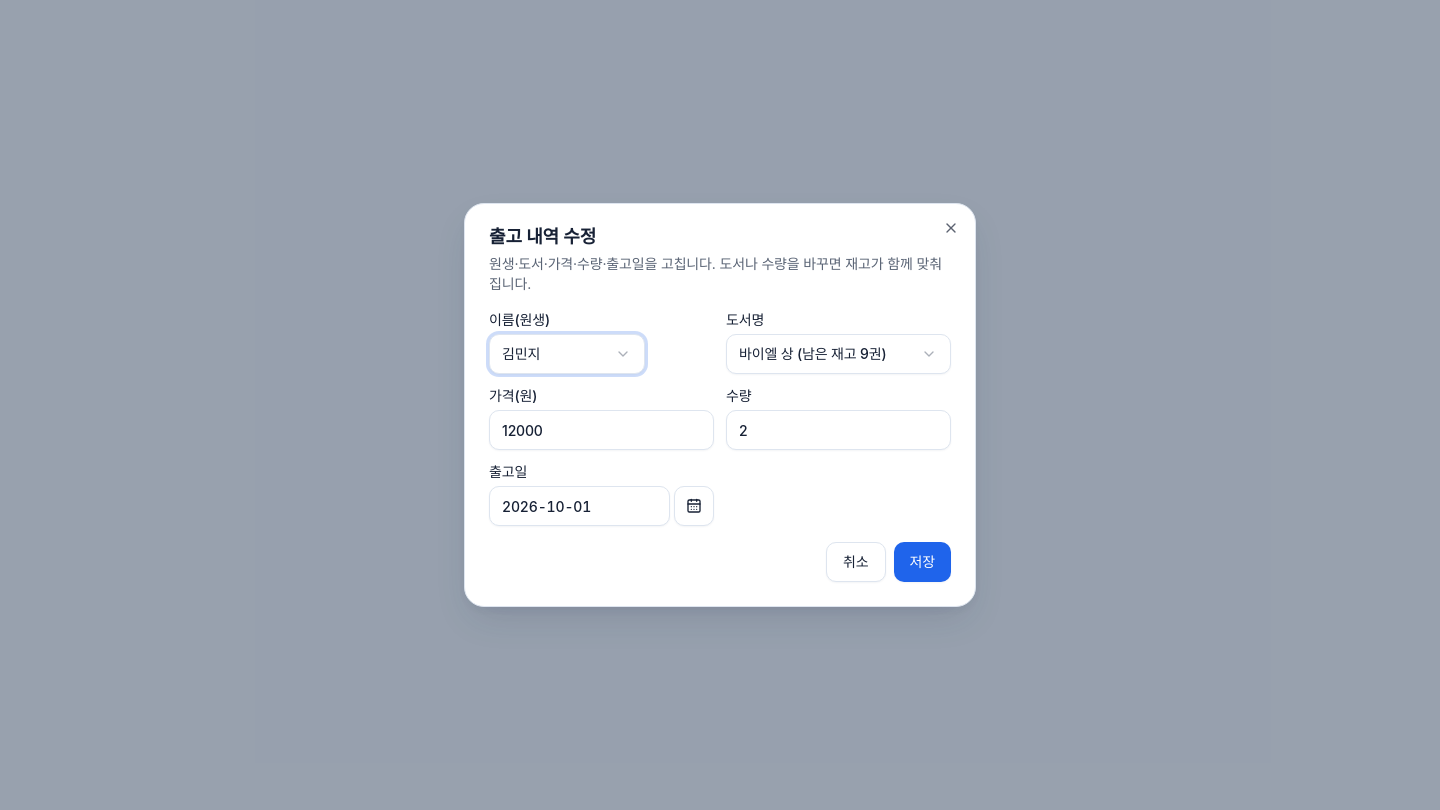
Test case: BookShipmentEditDialog › 도서를 바꾸면 가격이 다시 자동 입력되고 새 도서의 재고로 사전 검증한다
Select "스즈키 바이올린 1 (남은 재고 4권)" in the dropdown labelled "도서명" at (838, 354), box top-left (726, 334), bottom-right (951, 374)
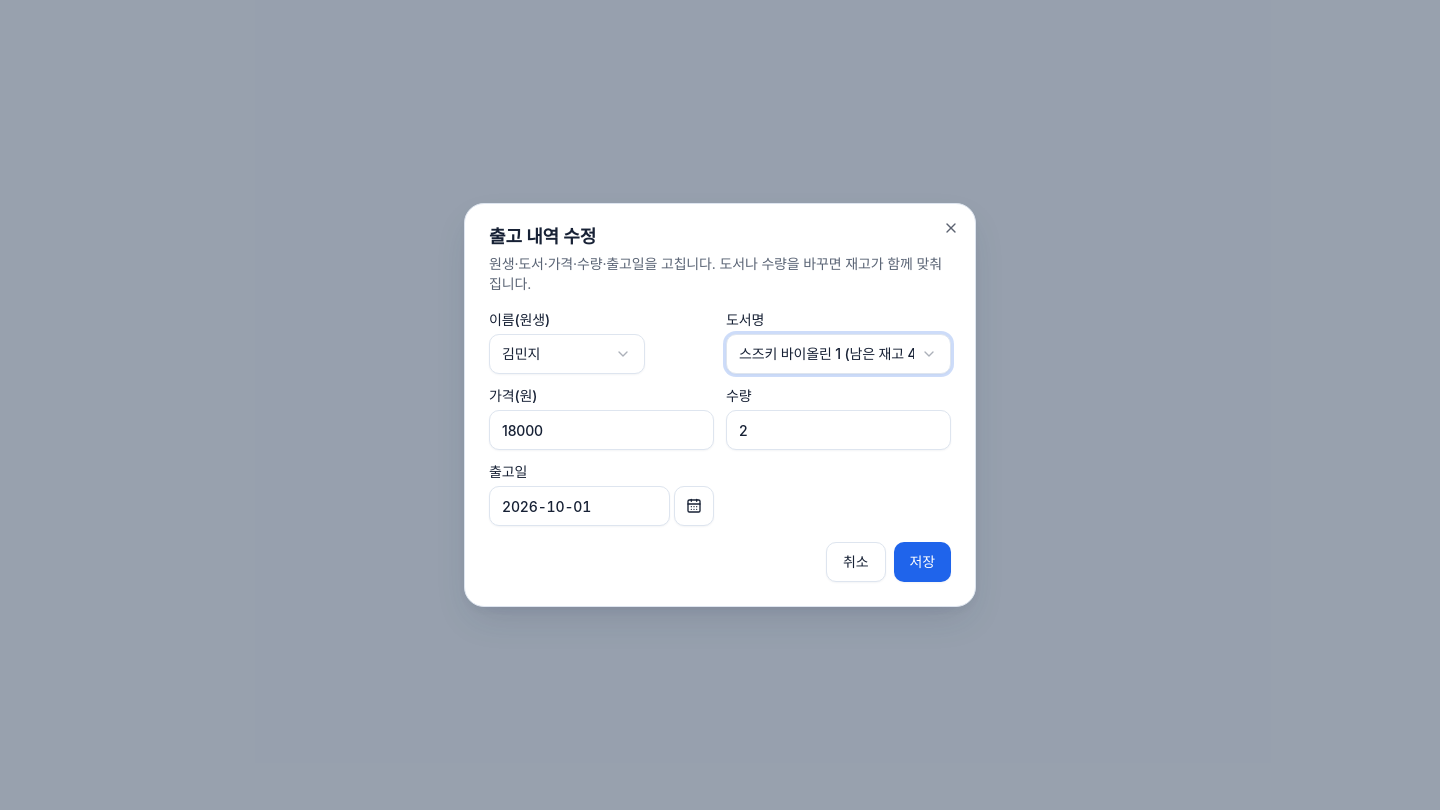
Check: the button "저장" is enabled, box top-left (894, 542), bottom-right (951, 582)
Check: the field labelled "가격(원)" holds "18000", box top-left (489, 410), bottom-right (714, 450)
Replace the text in the number field labelled "수량" with "5" at (838, 430), box top-left (726, 410), bottom-right (951, 450)
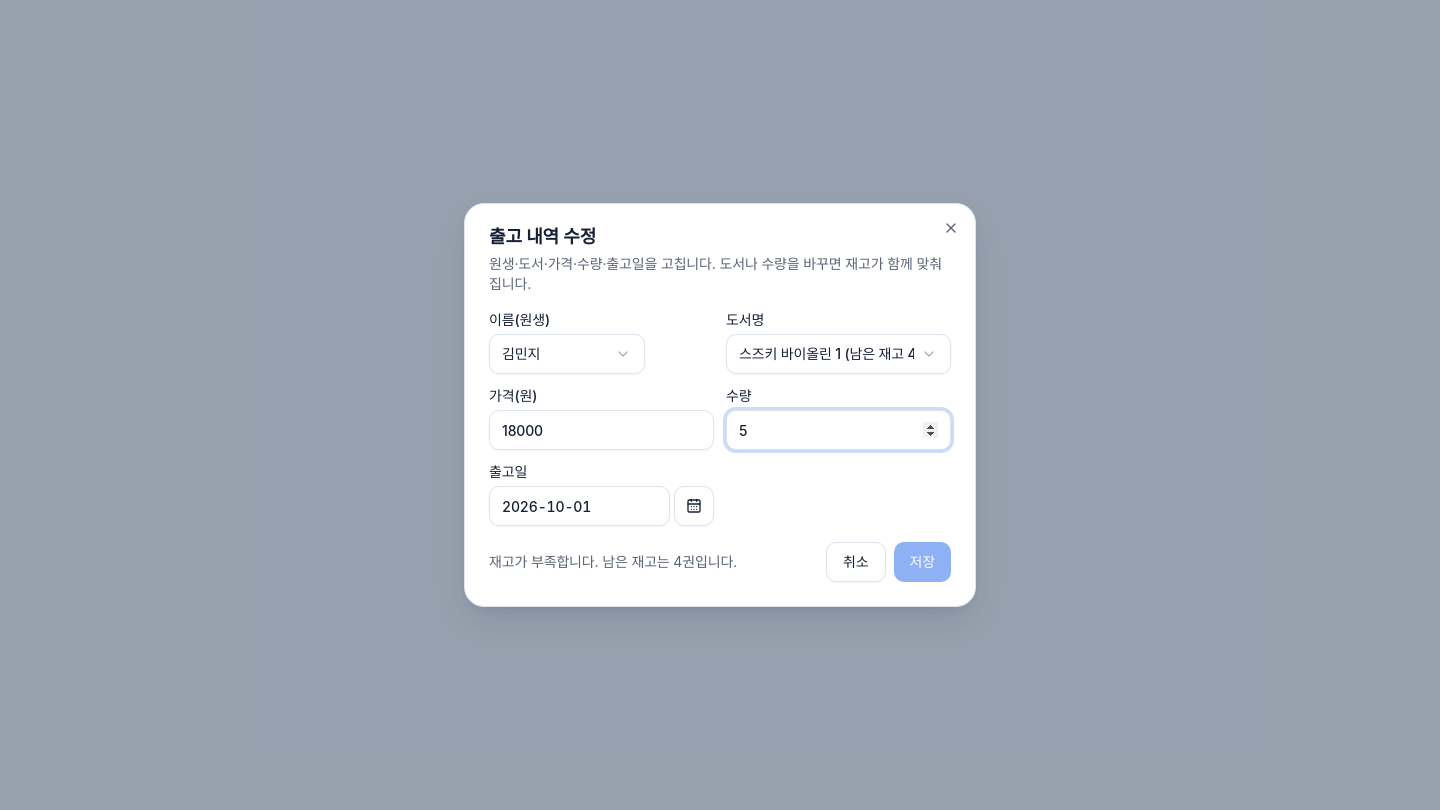
Check: the text "재고가 부족합니다. 남은 재고는 4권입니다." is shown, box top-left (489, 552), bottom-right (737, 572)
Select "체르니 100 (재고 없음)" in the dropdown labelled "도서명" at (838, 354), box top-left (726, 334), bottom-right (951, 374)
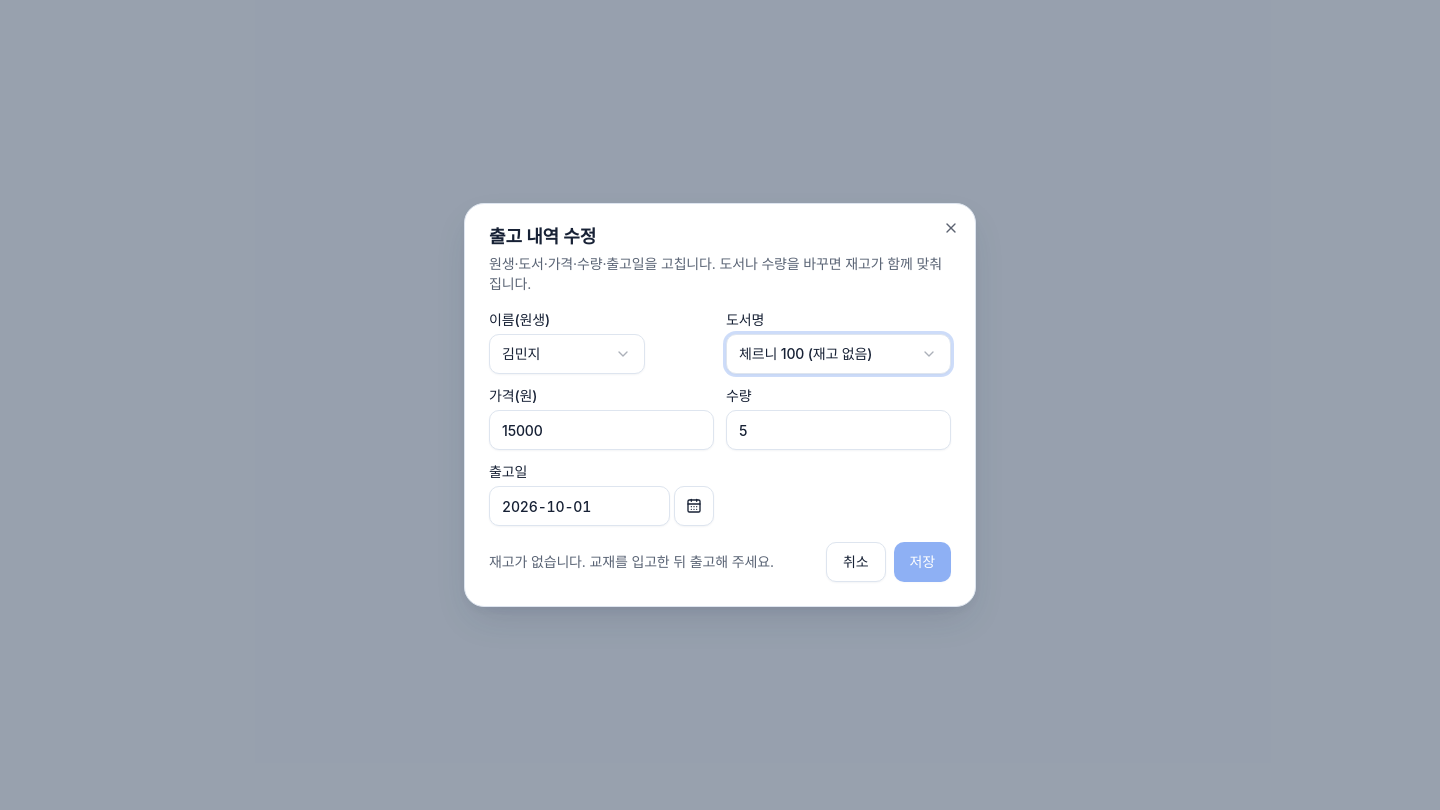
Check: the text "재고가 없습니다. 교재를 입고한 뒤 출고해 주세요." is shown, box top-left (489, 552), bottom-right (774, 572)
